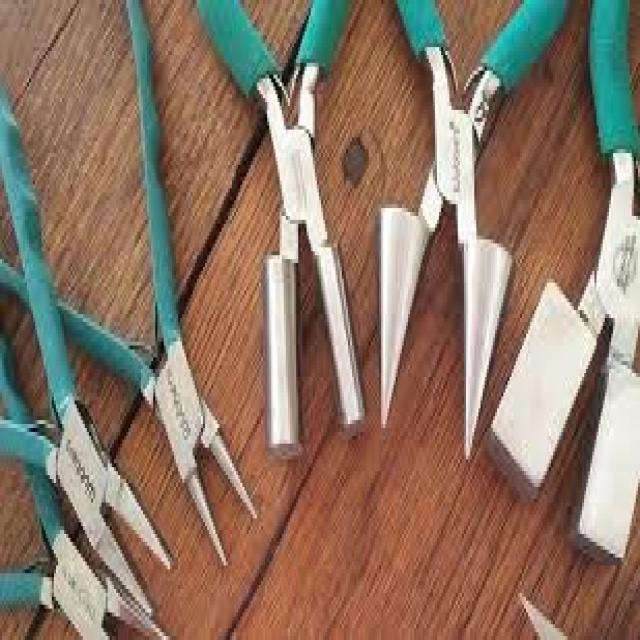pliers: (75, 81, 258, 578), (364, 0, 538, 432), (501, 0, 636, 546), (218, 0, 376, 459), (0, 210, 175, 620), (0, 491, 150, 640)
